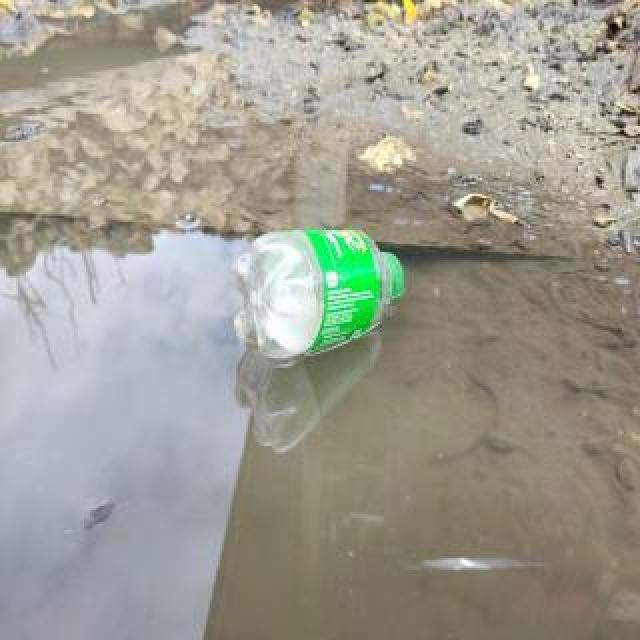bottle: (225, 222, 407, 364)
